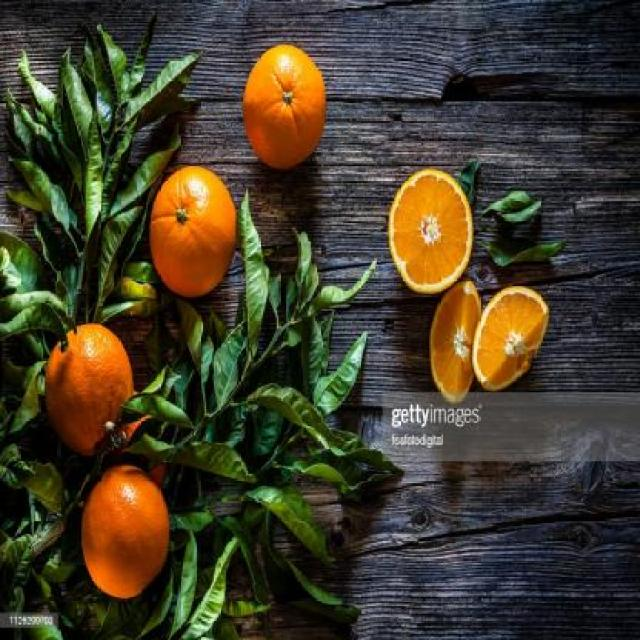Orange: (78, 462, 170, 598), (43, 322, 134, 456), (148, 163, 237, 297), (240, 42, 326, 169)
